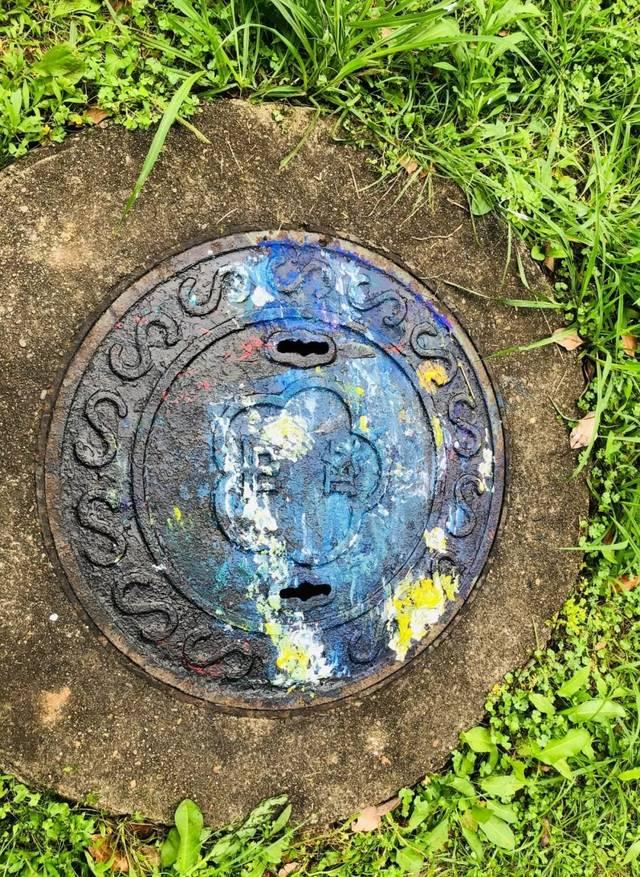wellcover: (24, 209, 532, 725)
